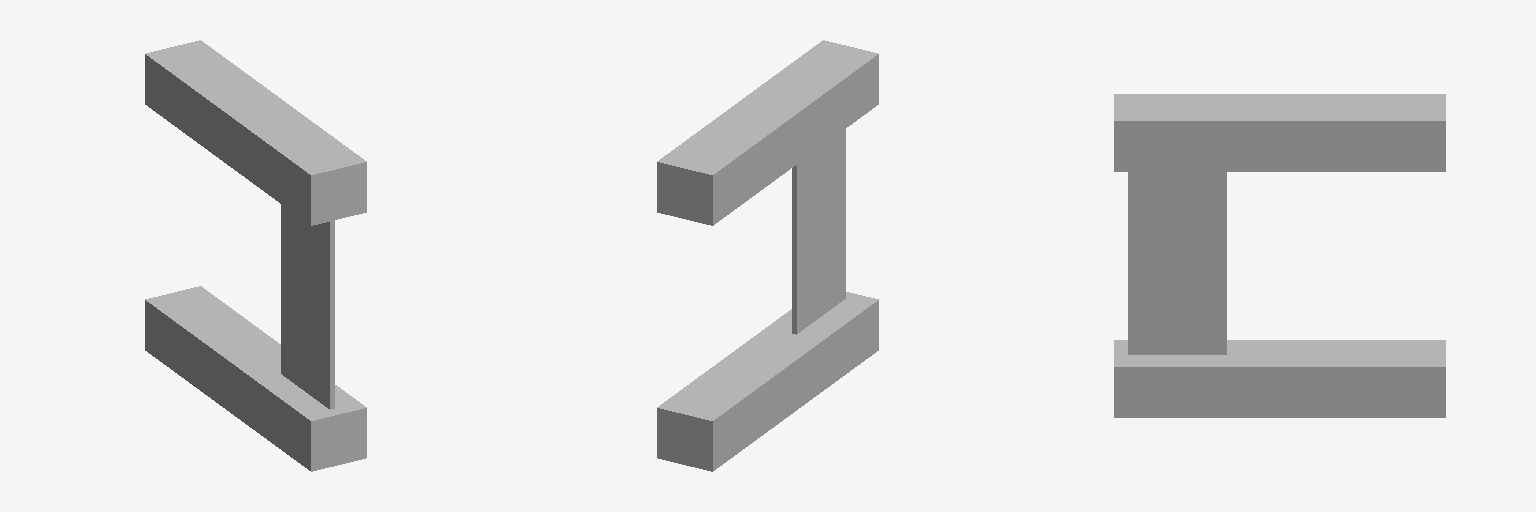
The model's file is ObjectLandClaimBanner.obj.
3 renders of one model, left to right at view 1: azimuth 30°, elevation 25°; view 2: azimuth 150°, elevation 25°; view 3: azimuth 270°, elevation 25°, orthographic.
Parts seen in each view (by area): view 1: Cube.001, Cube, Cube.002; view 2: Cube.001, Cube, Cube.002; view 3: Cube.001, Cube, Cube.002.
Part boxes in pixels (left/top/right/bottom): Cube.001: left=145, top=40, right=366, bottom=225; Cube: left=145, top=286, right=366, bottom=471; Cube.002: left=281, top=204, right=334, bottom=409; Cube.001: left=657, top=40, right=878, bottom=225; Cube: left=657, top=292, right=878, bottom=471; Cube.002: left=792, top=129, right=845, bottom=334; Cube.001: left=1114, top=94, right=1445, bottom=171; Cube: left=1114, top=340, right=1445, bottom=417; Cube.002: left=1128, top=172, right=1226, bottom=354.
Bounding box in the file's own units: 1.19 × 6.03 × 6.13.